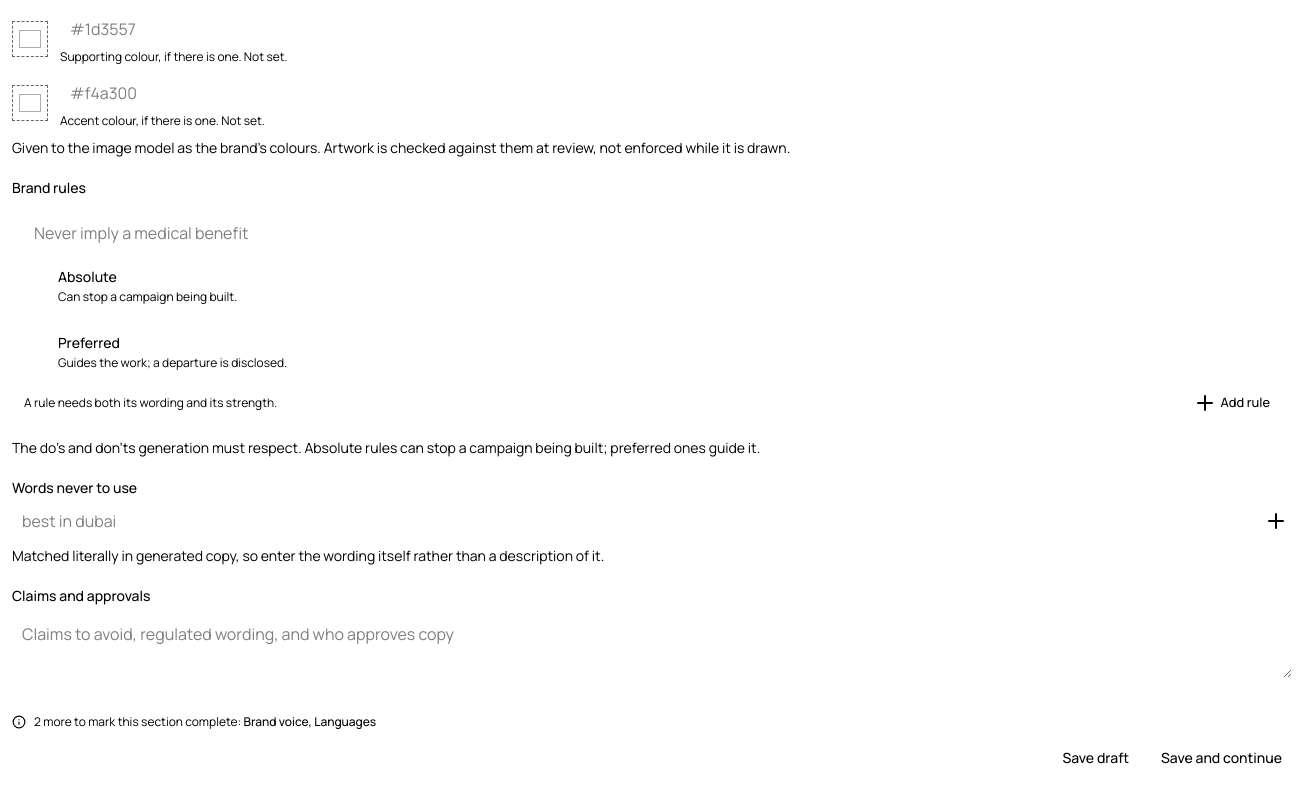
it: BrandAssetsSection › shows a failed save beside the button that was pressed
(page scrolled)
Click the button "Save draft". click: (1096, 758)
box: [1052, 742, 1139, 774]
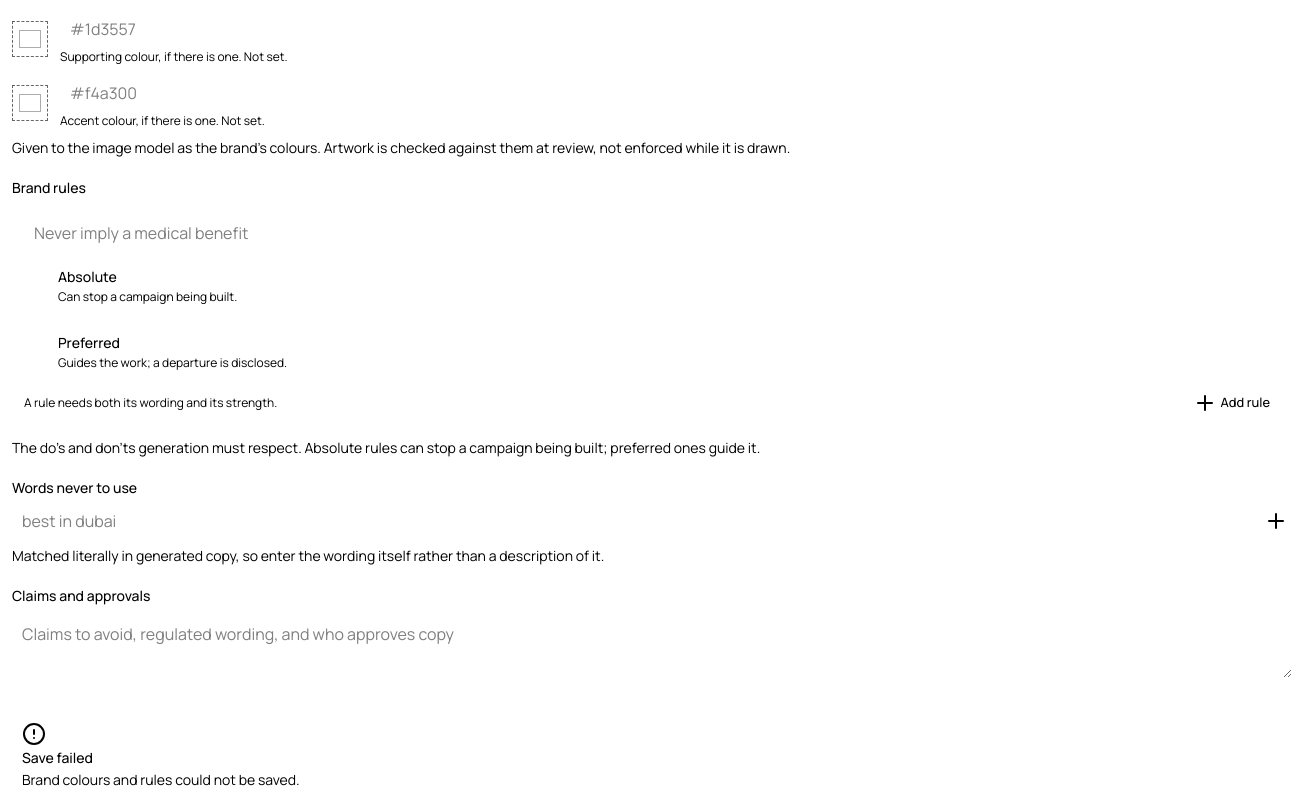
Check: the text "Save failed" is shown, box [22, 748, 93, 766]
Check: the text "Brand colours and rules could not be saved." is shown, box [22, 770, 300, 788]
